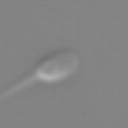normal: (1, 73, 37, 105)
